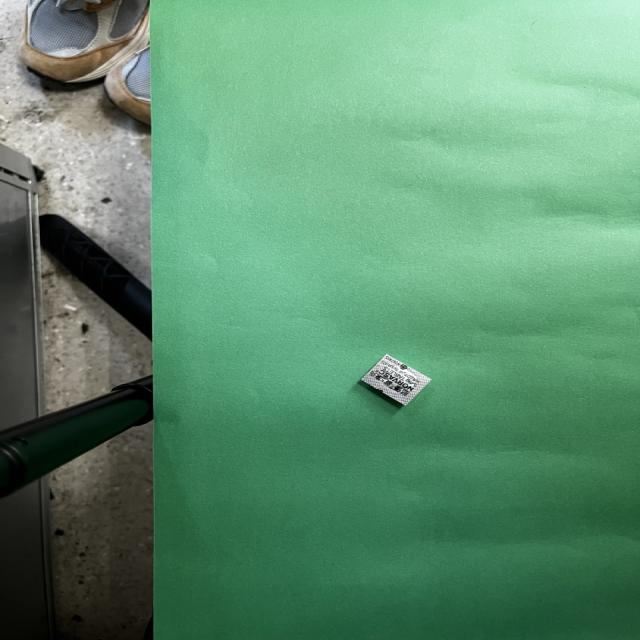Other Objects: (361, 354, 430, 406)
